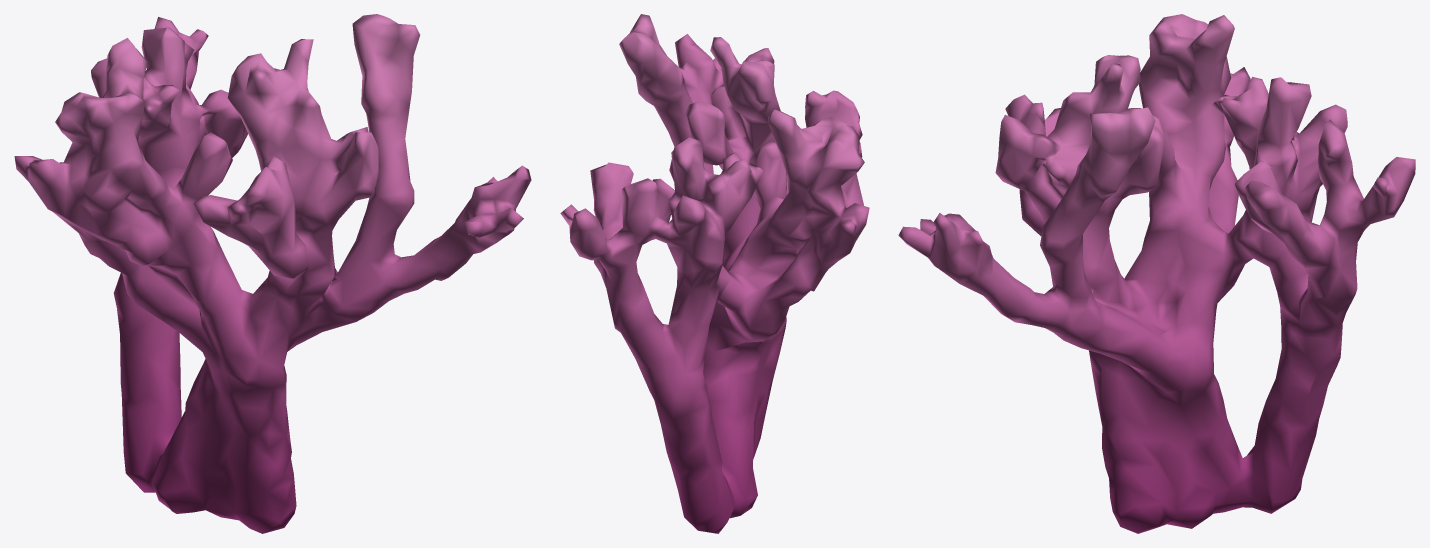
The model's file is kt_coral_stag_b.glb.
The picture shows the model from 3 angles, left to right: view 1: azimuth 30°, elevation 25°; view 2: azimuth 150°, elevation 25°; view 3: azimuth 270°, elevation 25°; orthographic projection. The views are drawn at different scales.
Visible parts, largest first — view 1: kt_coral_stag_b; view 2: kt_coral_stag_b; view 3: kt_coral_stag_b.
Part boxes in pixels (x1=…): kt_coral_stag_b: x1=14, y1=14, x2=531, y2=533; kt_coral_stag_b: x1=560, y1=14, x2=869, y2=533; kt_coral_stag_b: x1=898, y1=14, x2=1415, y2=533.
Size of the model in its own units: 0.7647 by 1 by 0.9812.
